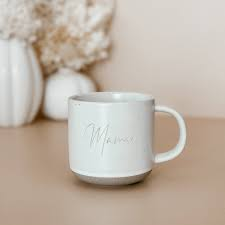mug: (62, 78, 194, 187)
